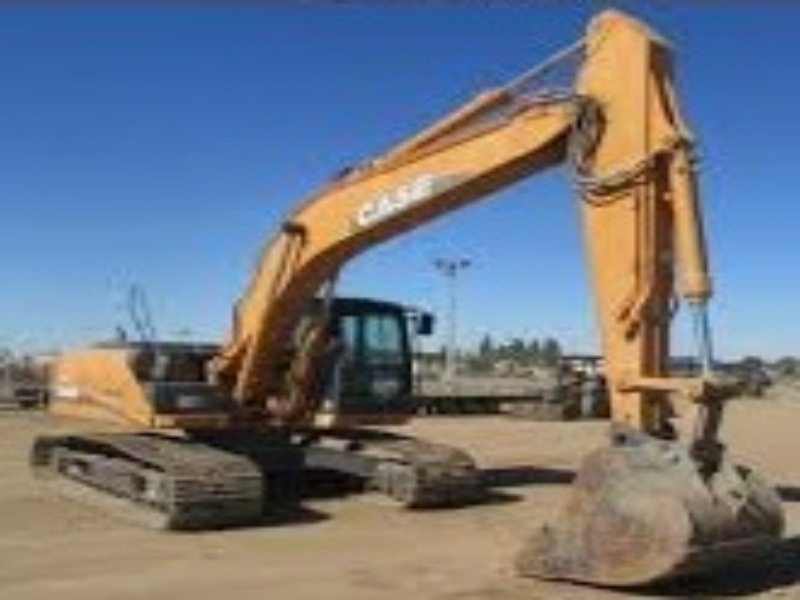wajueji: (15, 250, 546, 531)
